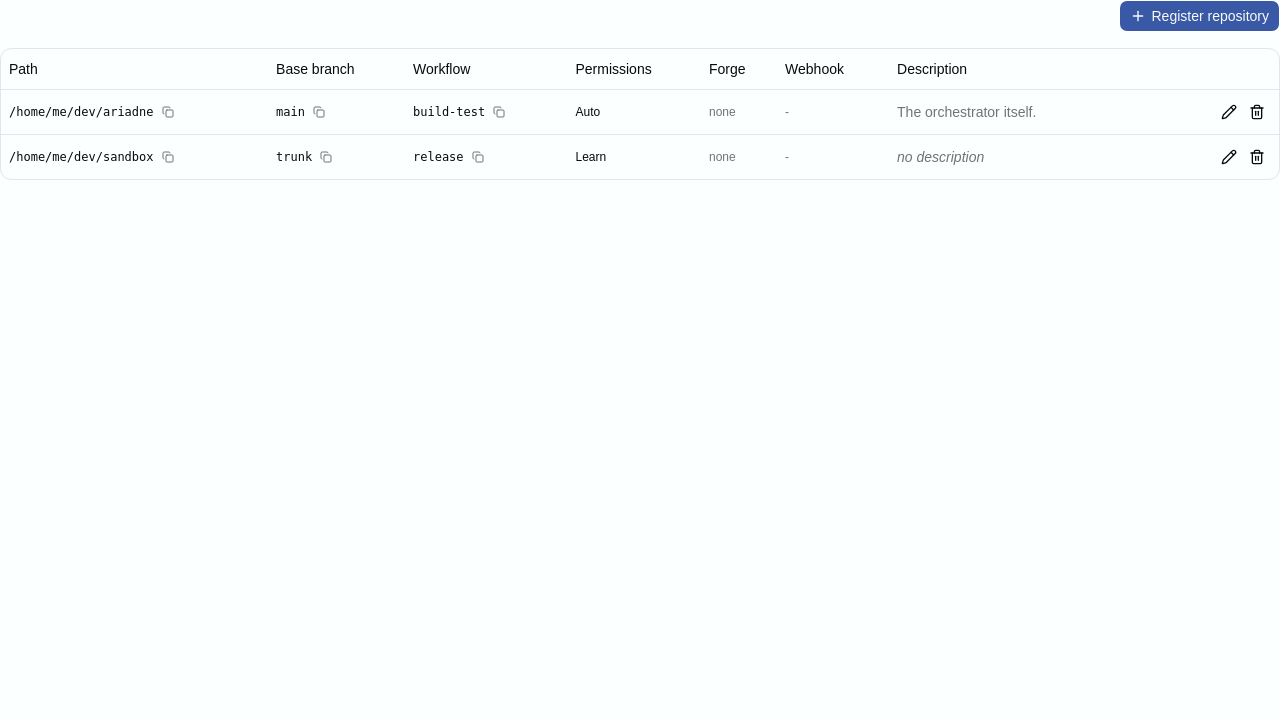
Test: removing a repository › closes on a 204, which is the whole of a successful delete
This screenshot has width=1280, height=720.
Click the button named "Remove /home/me/dev/sandbox". click: x=1257, y=156
box: [1243,142,1271,170]
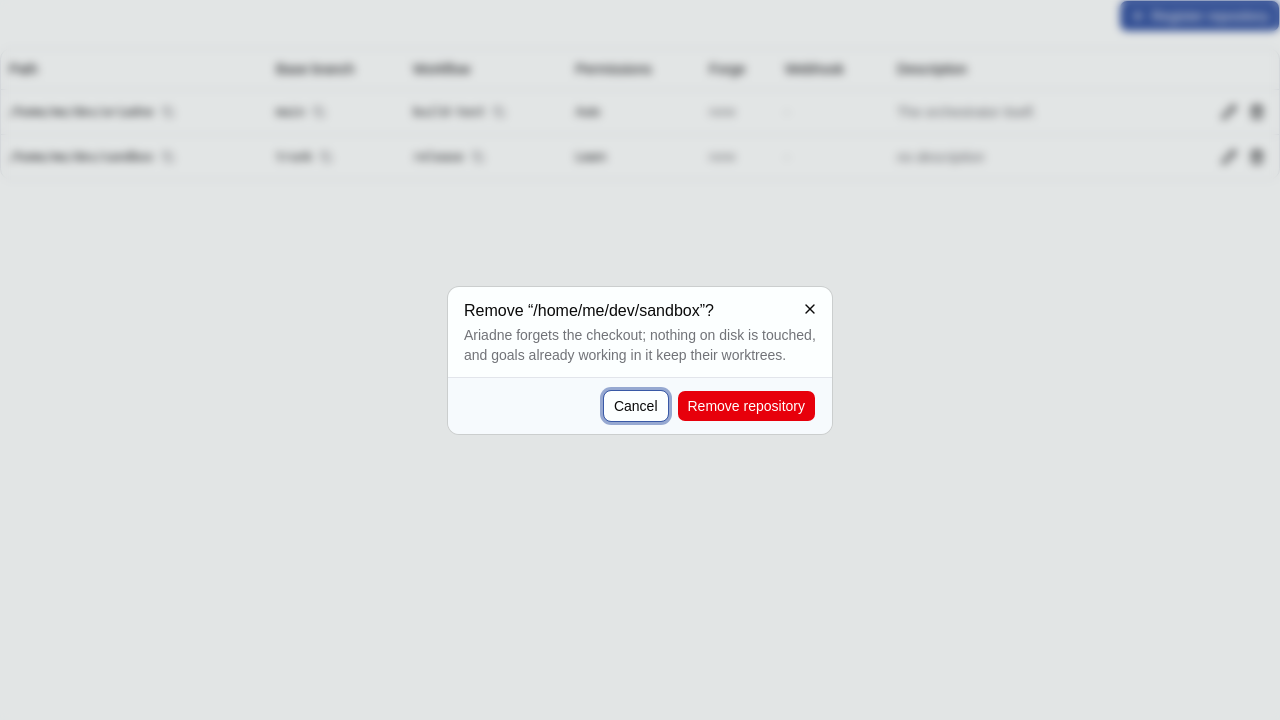
Click the button "Remove repository". click: x=746, y=406
box: [676,390,816,422]
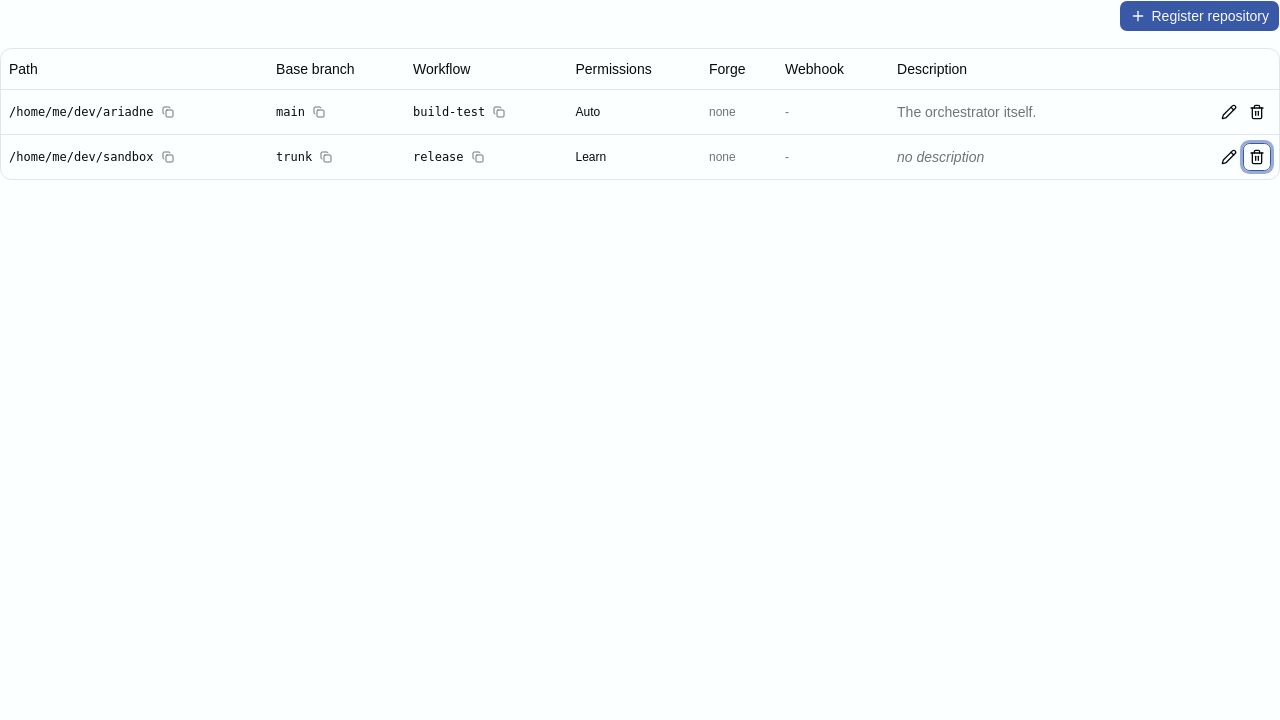
Result: the button "Remove repository" is gone
